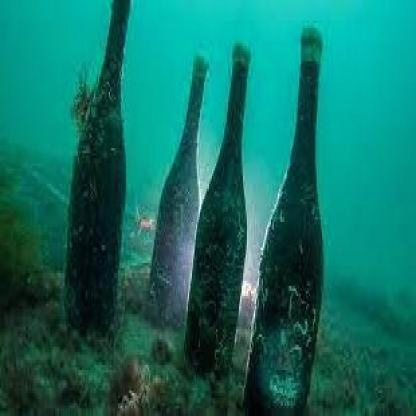gbottle: (247, 30, 326, 416), (185, 49, 254, 375), (69, 2, 132, 340), (152, 53, 209, 326)
